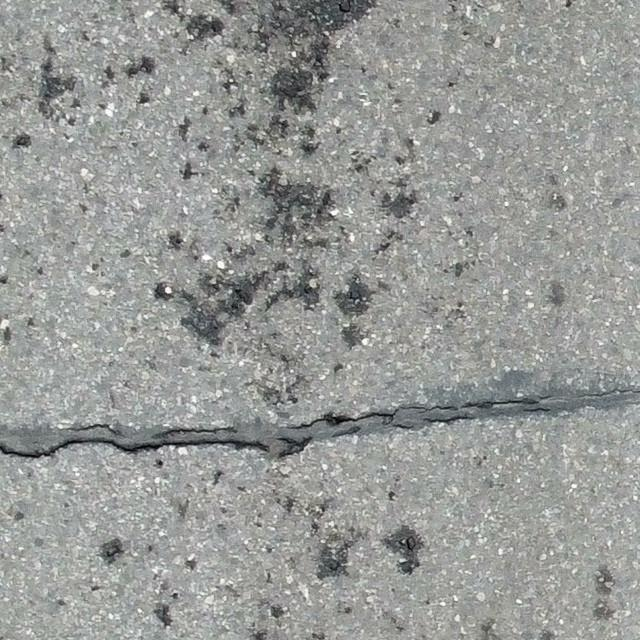TransverseCrack: (1, 390, 640, 460)
